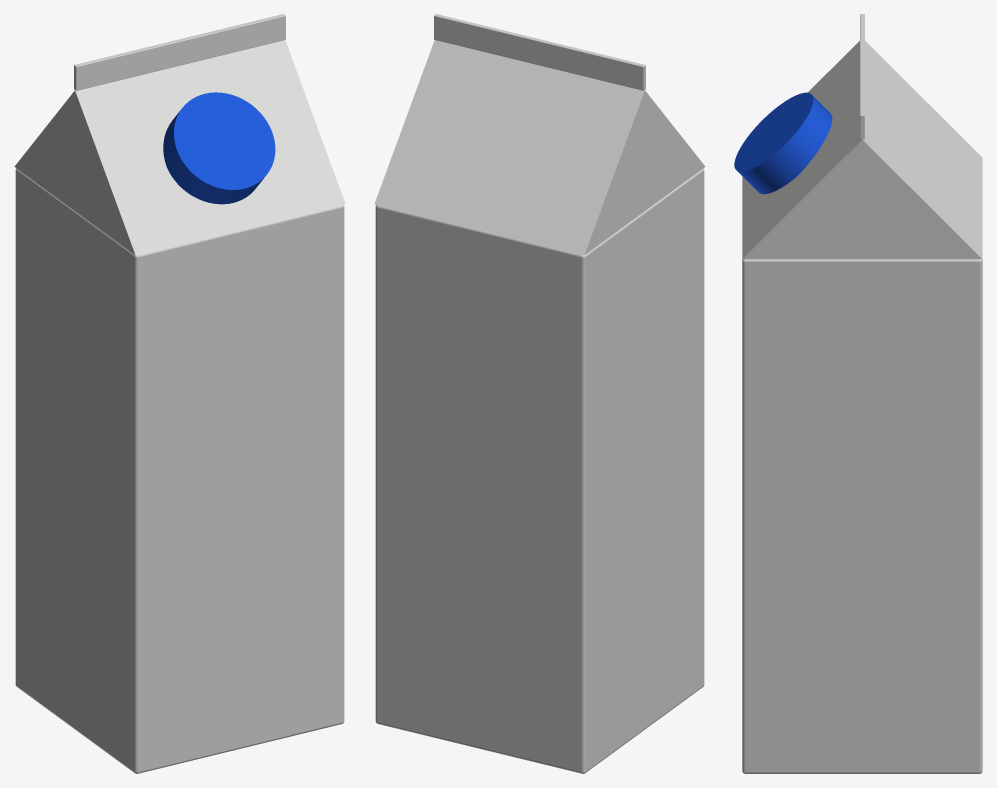
Rendered from 3dpaks-gable-1792087835770_1792088472497.glb.
3 views of the same model, side by side, from view 1: azimuth 30°, elevation 25°; view 2: azimuth 150°, elevation 25°; view 3: azimuth 270°, elevation 25° (orthographic).
Size of the model in its own units: 72 by 218 by 74.37.
